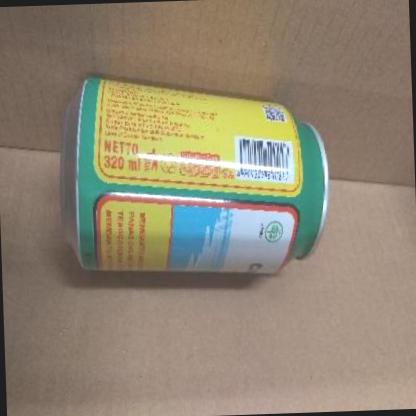alumunium_can: (53, 61, 335, 286)
